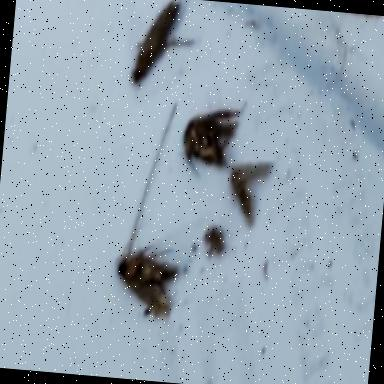pbw: (111, 210, 183, 322), (131, 0, 198, 89), (180, 100, 244, 180)
